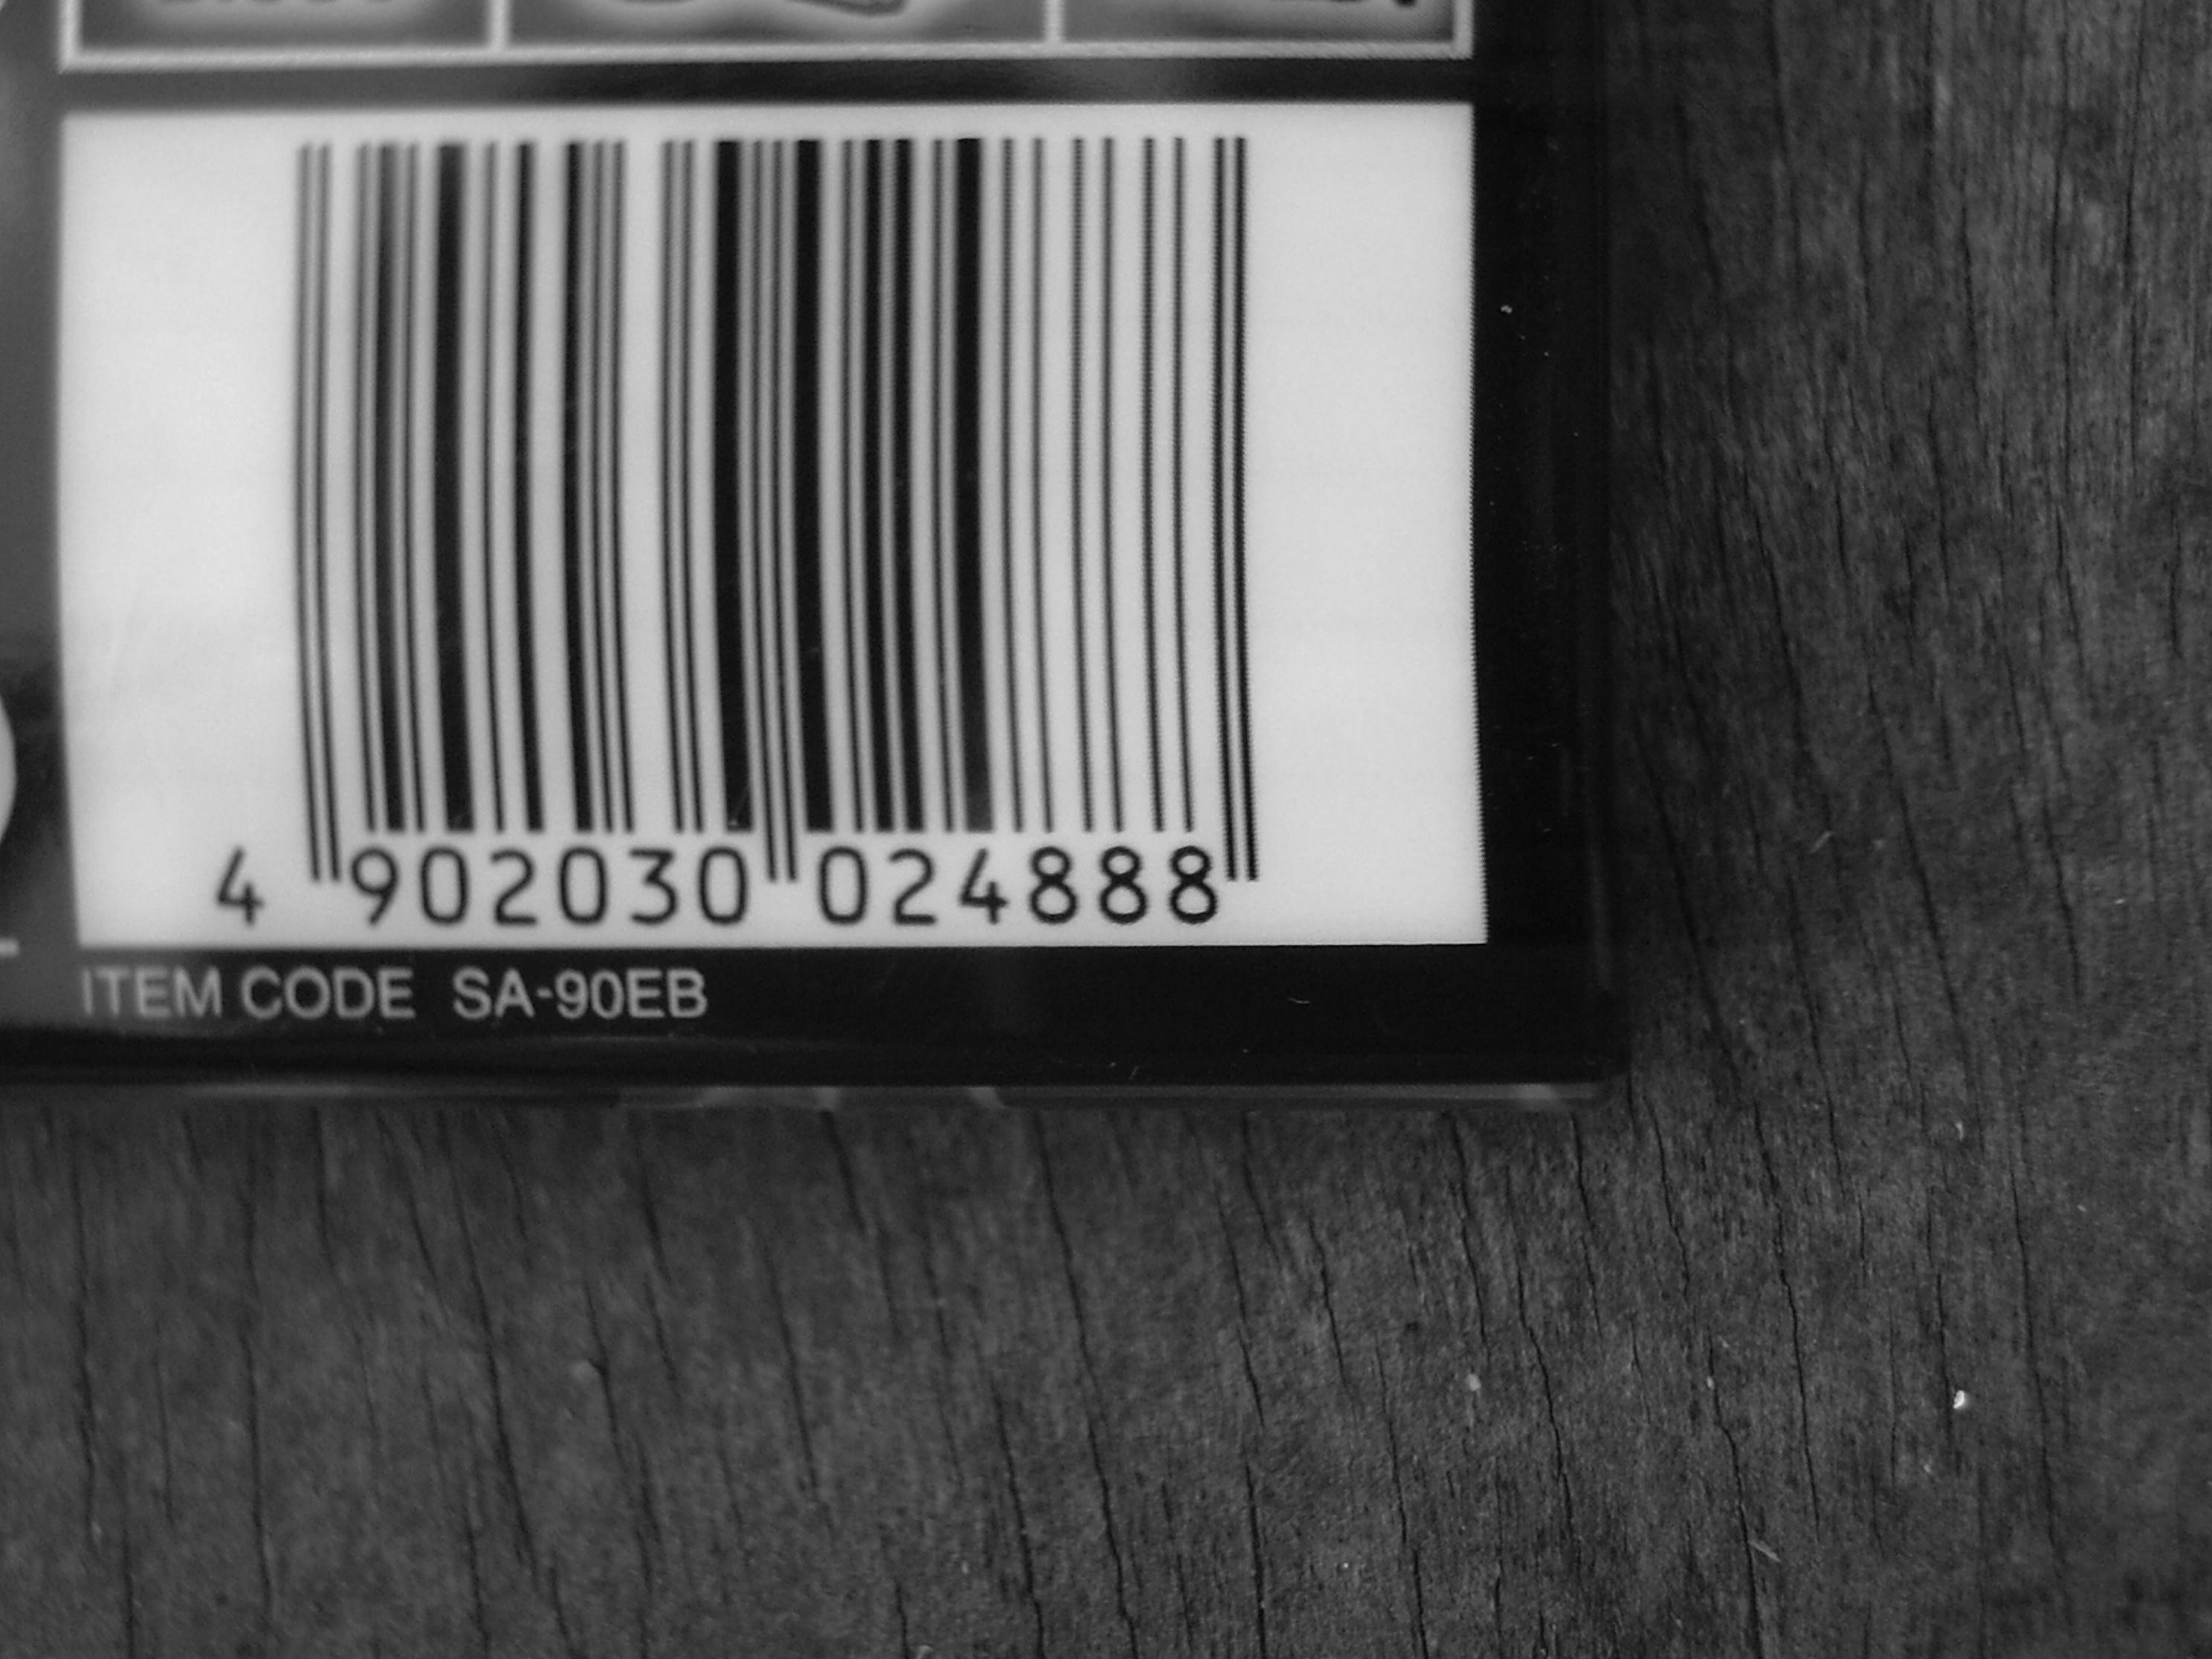Barcode: (275, 101, 1325, 931)
